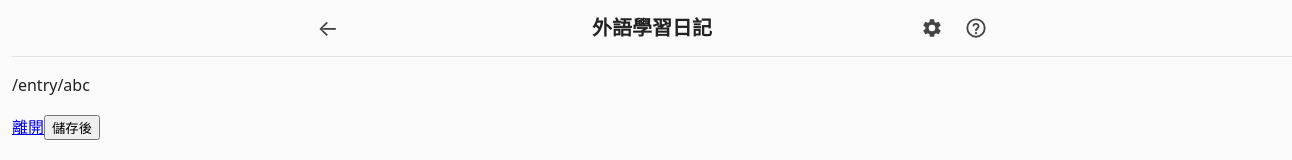
Scenario: TopBar › goes back to the in-app page settings was opened from
Step 1. Click the link named "設定" → coordinates (932, 28), box top-left (921, 17), bottom-right (943, 39)
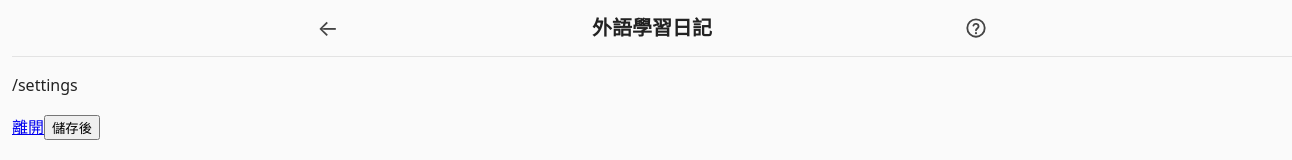
Check: the text with test id "path" reads "/settings", box top-left (12, 74), bottom-right (78, 96)
Step 2. Click the button named "返回" → coordinates (328, 28), box top-left (308, 8), bottom-right (348, 48)
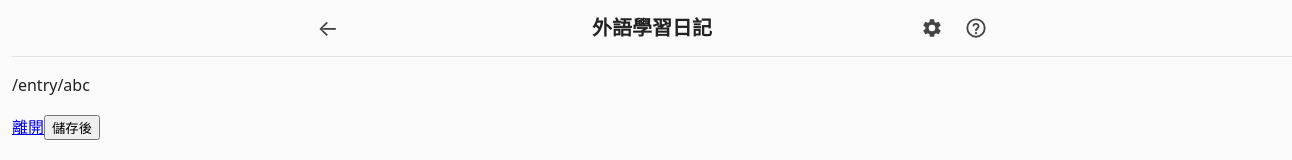
Check: the text with test id "path" reads "/entry/abc", box top-left (12, 74), bottom-right (90, 96)
